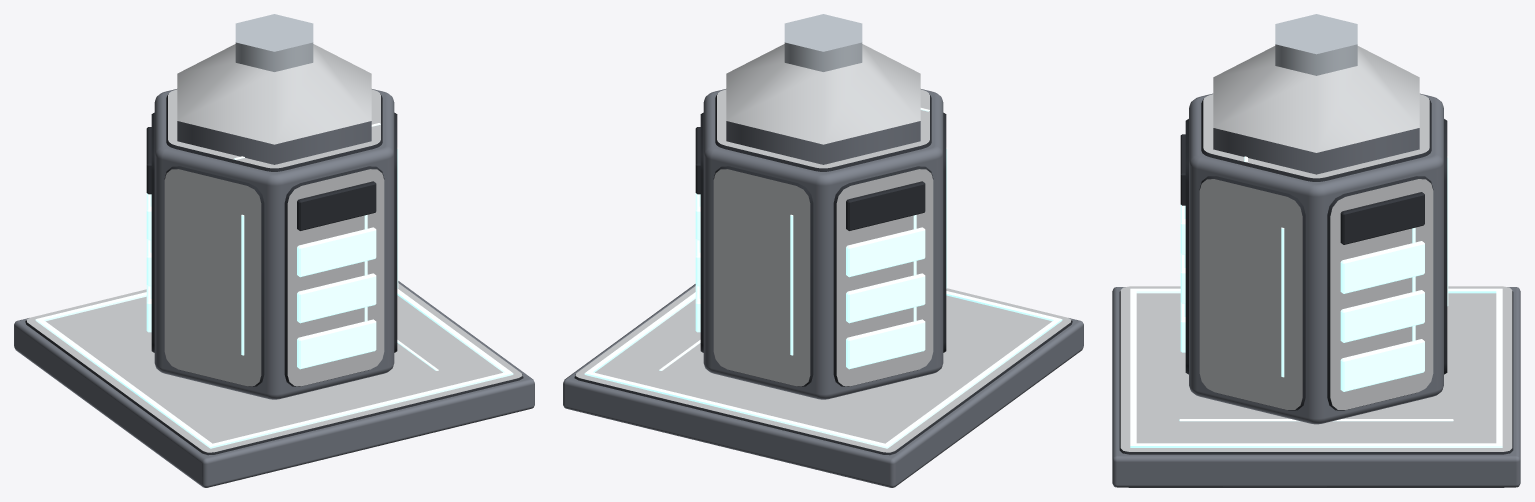
Rendered from R4X_ChargeCapacity.fbx.
The picture shows the model from 3 angles, left to right: view 1: azimuth 30°, elevation 25°; view 2: azimuth 150°, elevation 25°; view 3: azimuth 270°, elevation 25°; orthographic projection. The views are drawn at different scales.
Parts seen in each view (by area): view 1: R4X_ChargeCapacity_Body; view 2: R4X_ChargeCapacity_Body; view 3: R4X_ChargeCapacity_Body.
Part boxes in pixels (x1,y1,x2,y2): R4X_ChargeCapacity_Body: [14, 14, 534, 487]; R4X_ChargeCapacity_Body: [563, 14, 1083, 487]; R4X_ChargeCapacity_Body: [1112, 14, 1520, 487].
Bounding box in the file's own units: 0.514 × 0.515 × 0.514.
